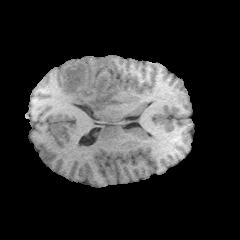glioma: (63, 63, 122, 112)
